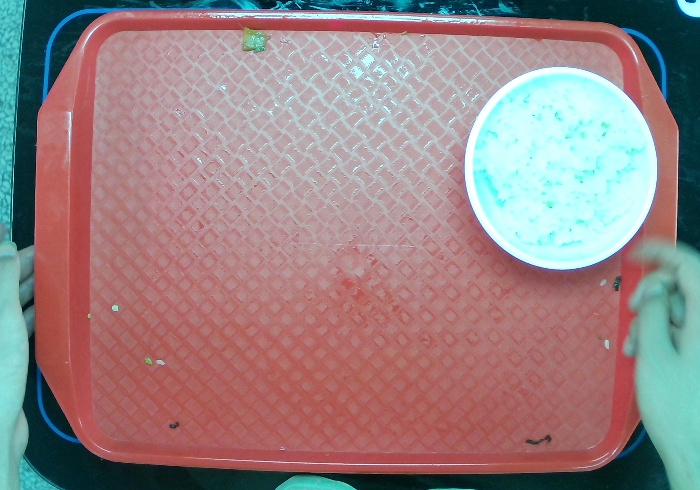YKMZ-Fan_Wan: (437, 58, 672, 288)
